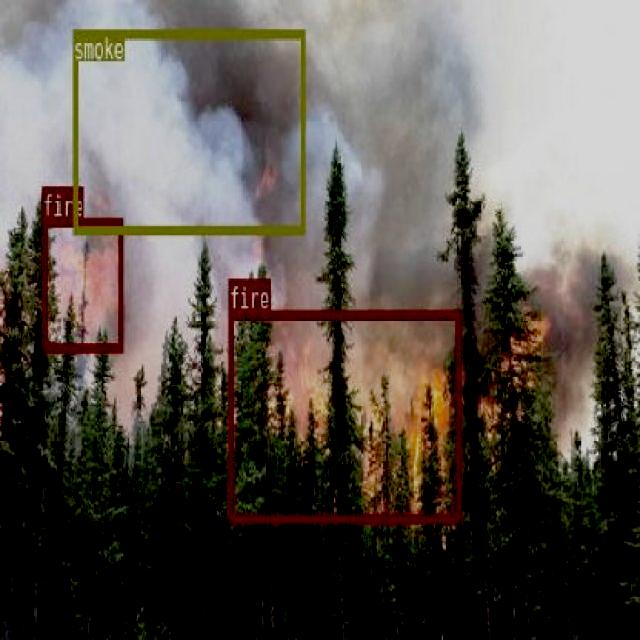fire: (228, 309, 460, 522), (42, 218, 122, 350)
smoke: (71, 29, 304, 232)
